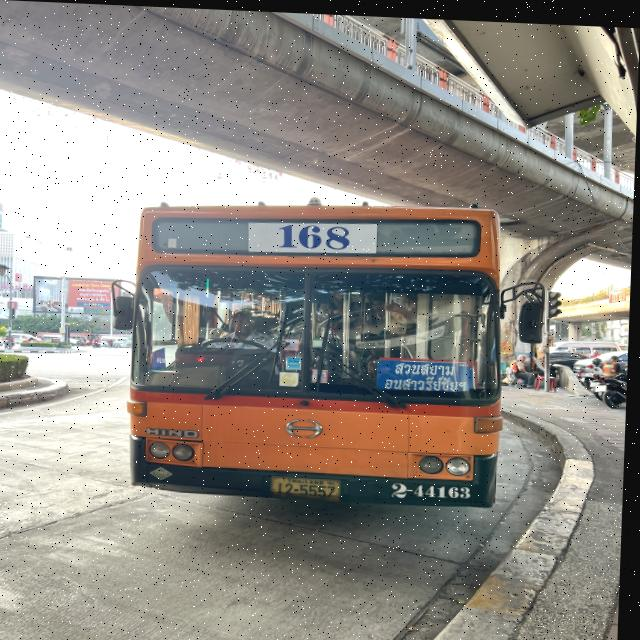BMTA-bus: (130, 202, 507, 505)
Bus Line Number: (249, 220, 380, 254)
Bus Side Number: (389, 477, 477, 497)
Destination Sign: (373, 349, 482, 391)
